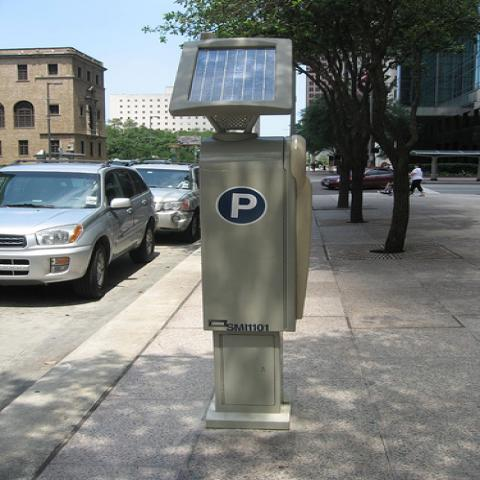car: (0, 156, 165, 298), (130, 163, 202, 245), (321, 167, 394, 189)
